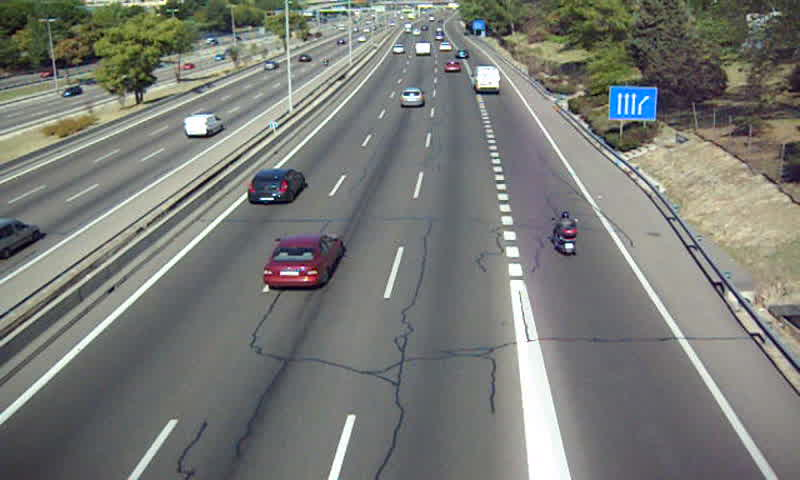car: (262, 234, 343, 289), (246, 168, 305, 205), (398, 86, 424, 108), (443, 60, 461, 74), (438, 41, 453, 53), (455, 48, 469, 60), (391, 44, 404, 55)
motorcycle: (550, 211, 579, 258)
van: (474, 65, 502, 94), (413, 42, 429, 56)
